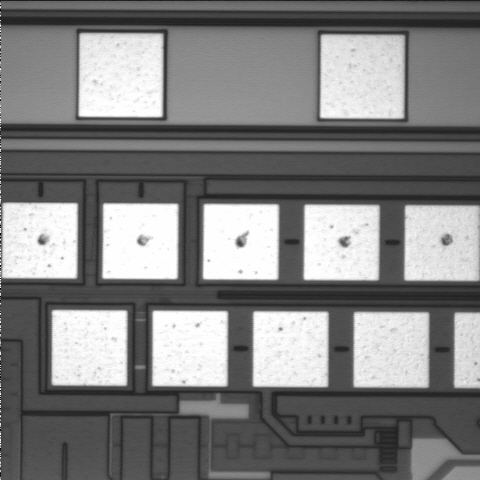pad: (79, 33, 163, 117), (320, 35, 404, 119), (2, 203, 78, 279), (102, 203, 178, 279), (203, 204, 279, 280), (152, 311, 228, 387), (303, 205, 379, 280), (52, 310, 127, 386), (253, 311, 328, 387), (354, 312, 429, 387)
